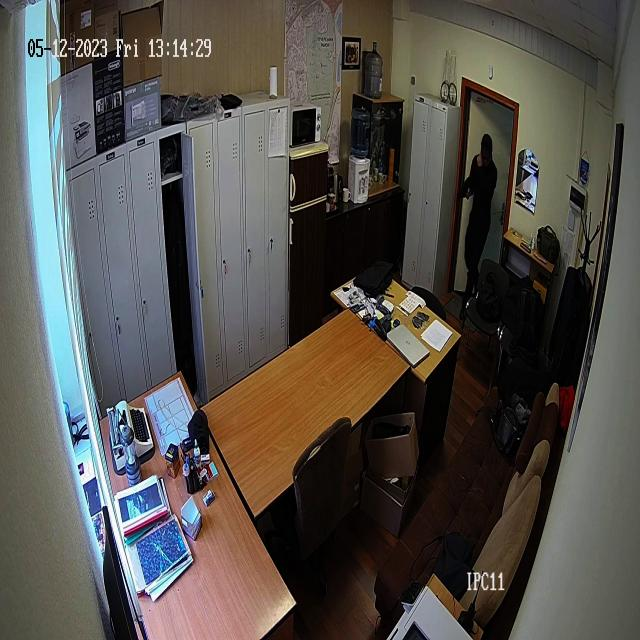gun: (454, 131, 497, 287), (453, 176, 473, 202)
